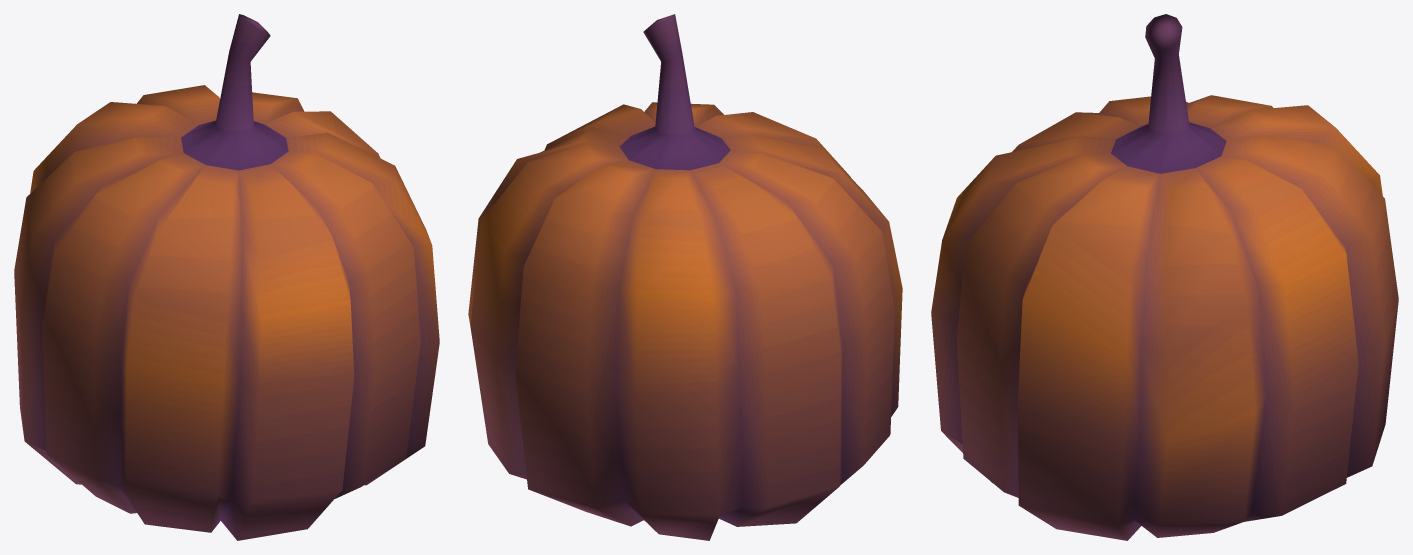
File: Pumpkin.fbx
3 renders of one model, left to right at view 1: azimuth 30°, elevation 25°; view 2: azimuth 150°, elevation 25°; view 3: azimuth 270°, elevation 25°, orthographic. The views are drawn at different scales.
Visible parts, largest first — view 1: pSphere2; view 2: pSphere2; view 3: pSphere2.
Boxes of the visible parts, bbox=[...] form: pSphere2: bbox=[14, 14, 439, 540]; pSphere2: bbox=[468, 14, 902, 540]; pSphere2: bbox=[931, 14, 1398, 540].
Bounding box in the file's own units: 1.8 × 2.13 × 1.86.
